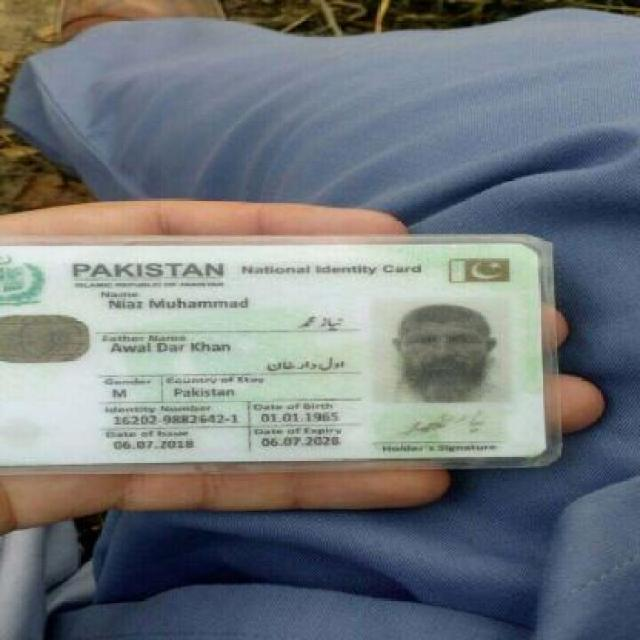Front: (0, 234, 563, 469)
